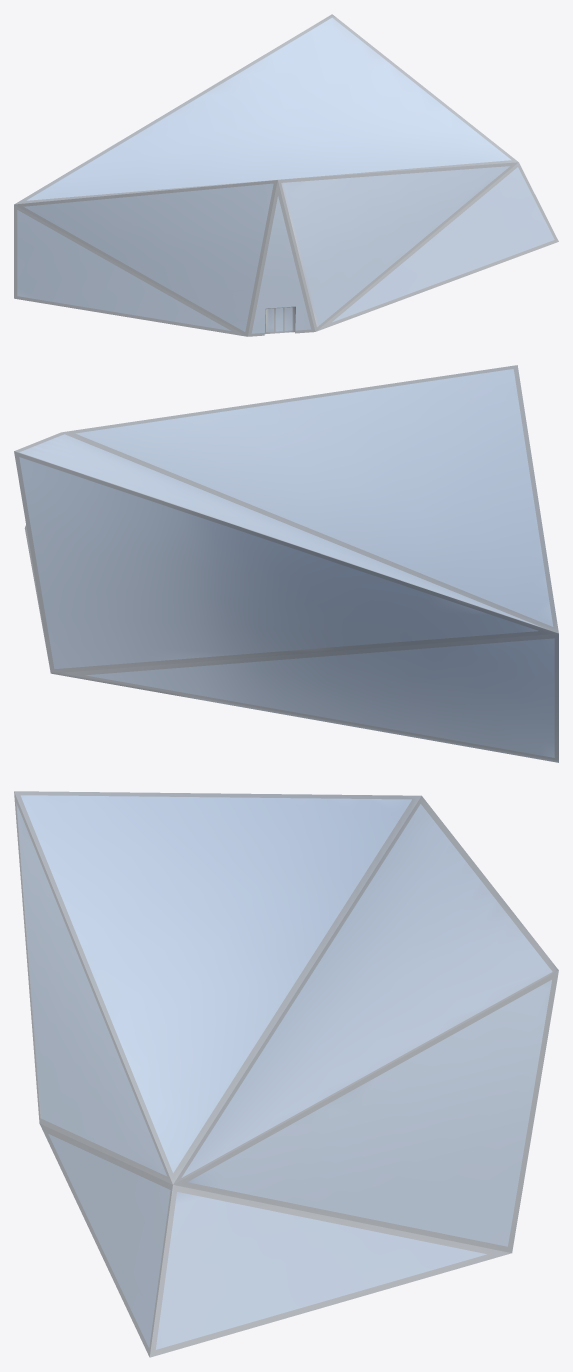
3 renders of one model, top to bottom at view 1: azimuth 30°, elevation 25°; view 2: azimuth 150°, elevation 25°; view 3: azimuth 270°, elevation 25°, orthographic. The views are drawn at different scales.
Parts seen in each view (by area): view 1: 70030076431358239; view 2: 70030076431358239; view 3: 70030076431358239.
Boxes of the visible parts, x1,y1,x2,y2 form: 70030076431358239: [14, 14, 558, 336]; 70030076431358239: [14, 365, 558, 762]; 70030076431358239: [14, 791, 558, 1357].
Size of the model in its own units: 47.21 by 16.28 by 27.34.
Materials: 1 (1 with a texture image).
